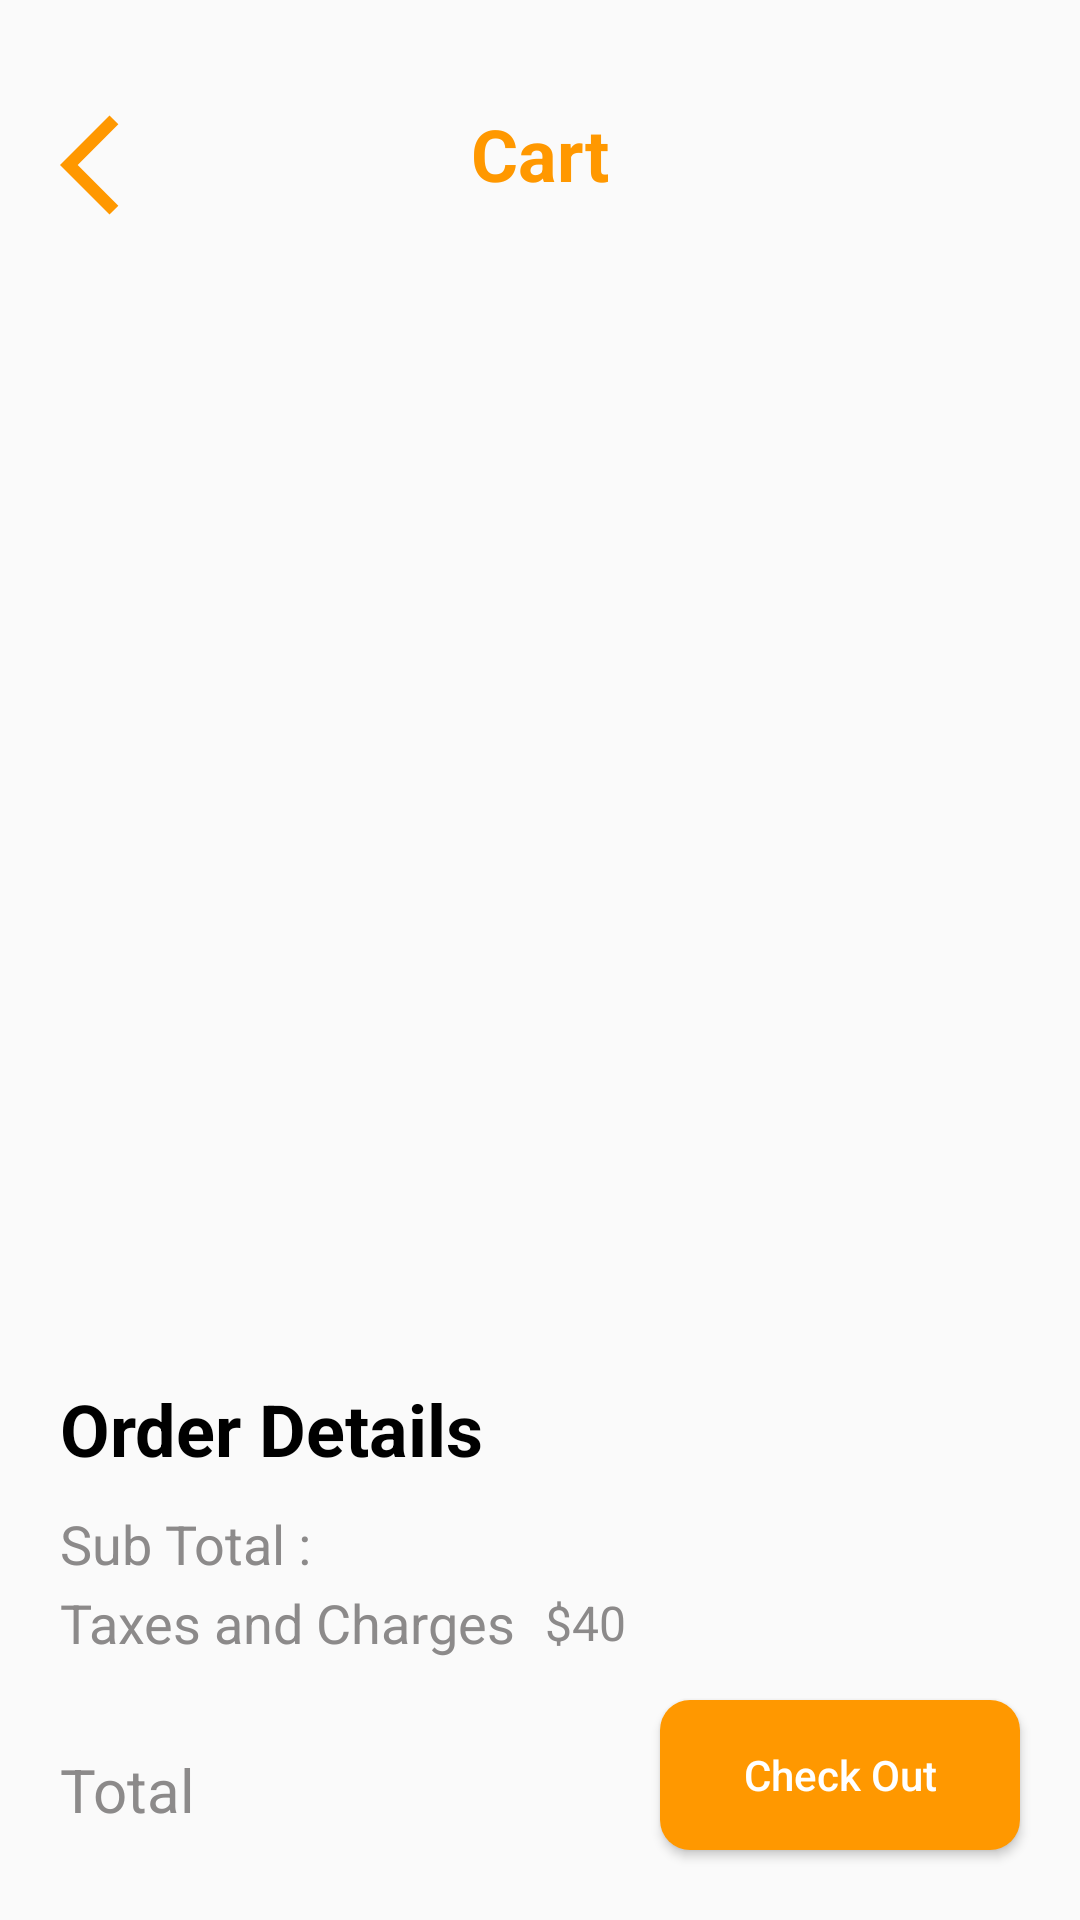

Icon click points for this 1080w x 1920h phone screenshot, format point (x, y):
arrow back: point (89, 165)
